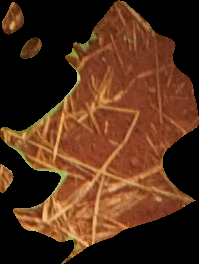soil: (1, 2, 197, 261)
